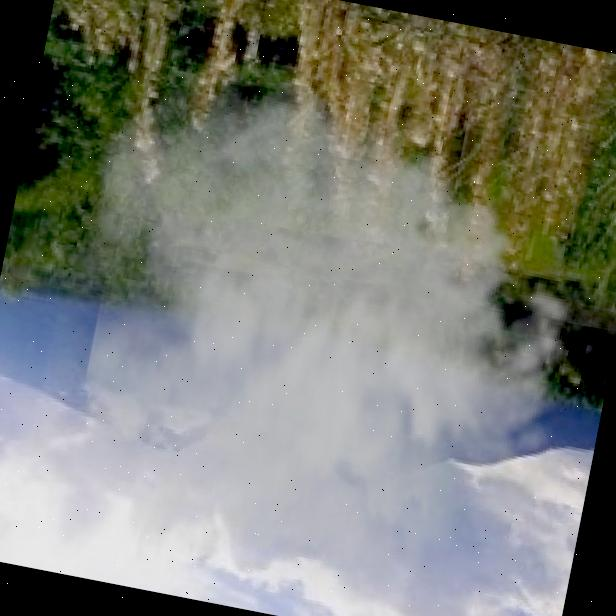smoke: (10, 29, 616, 616)
